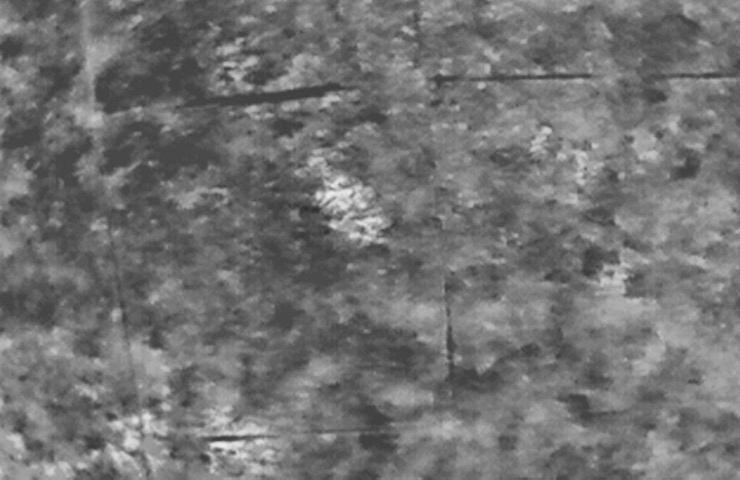landmines: (311, 169, 391, 242)
